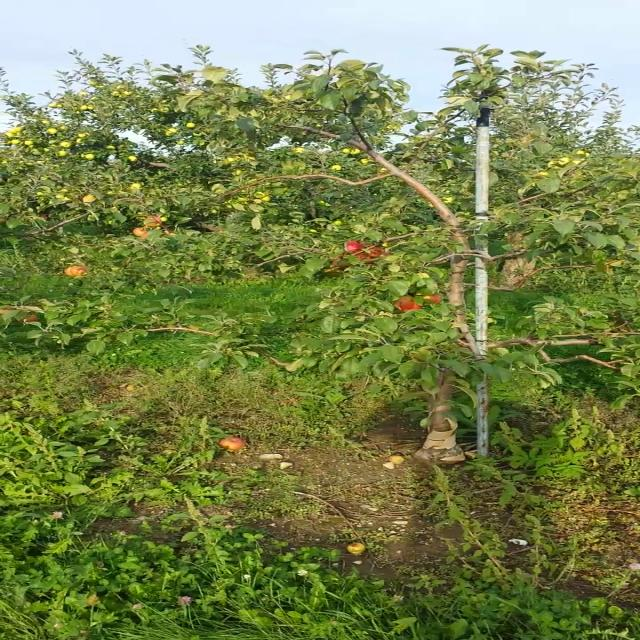apple: (394, 296, 420, 312), (62, 266, 86, 276), (346, 240, 364, 252), (356, 253, 374, 263), (133, 227, 147, 239), (148, 217, 162, 227), (425, 296, 441, 304), (24, 314, 40, 322), (368, 248, 382, 256)
